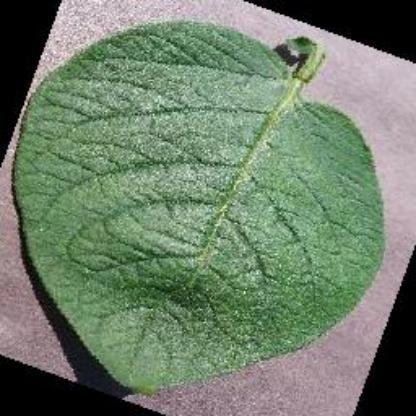Healthy-plant: (20, 16, 392, 398)
